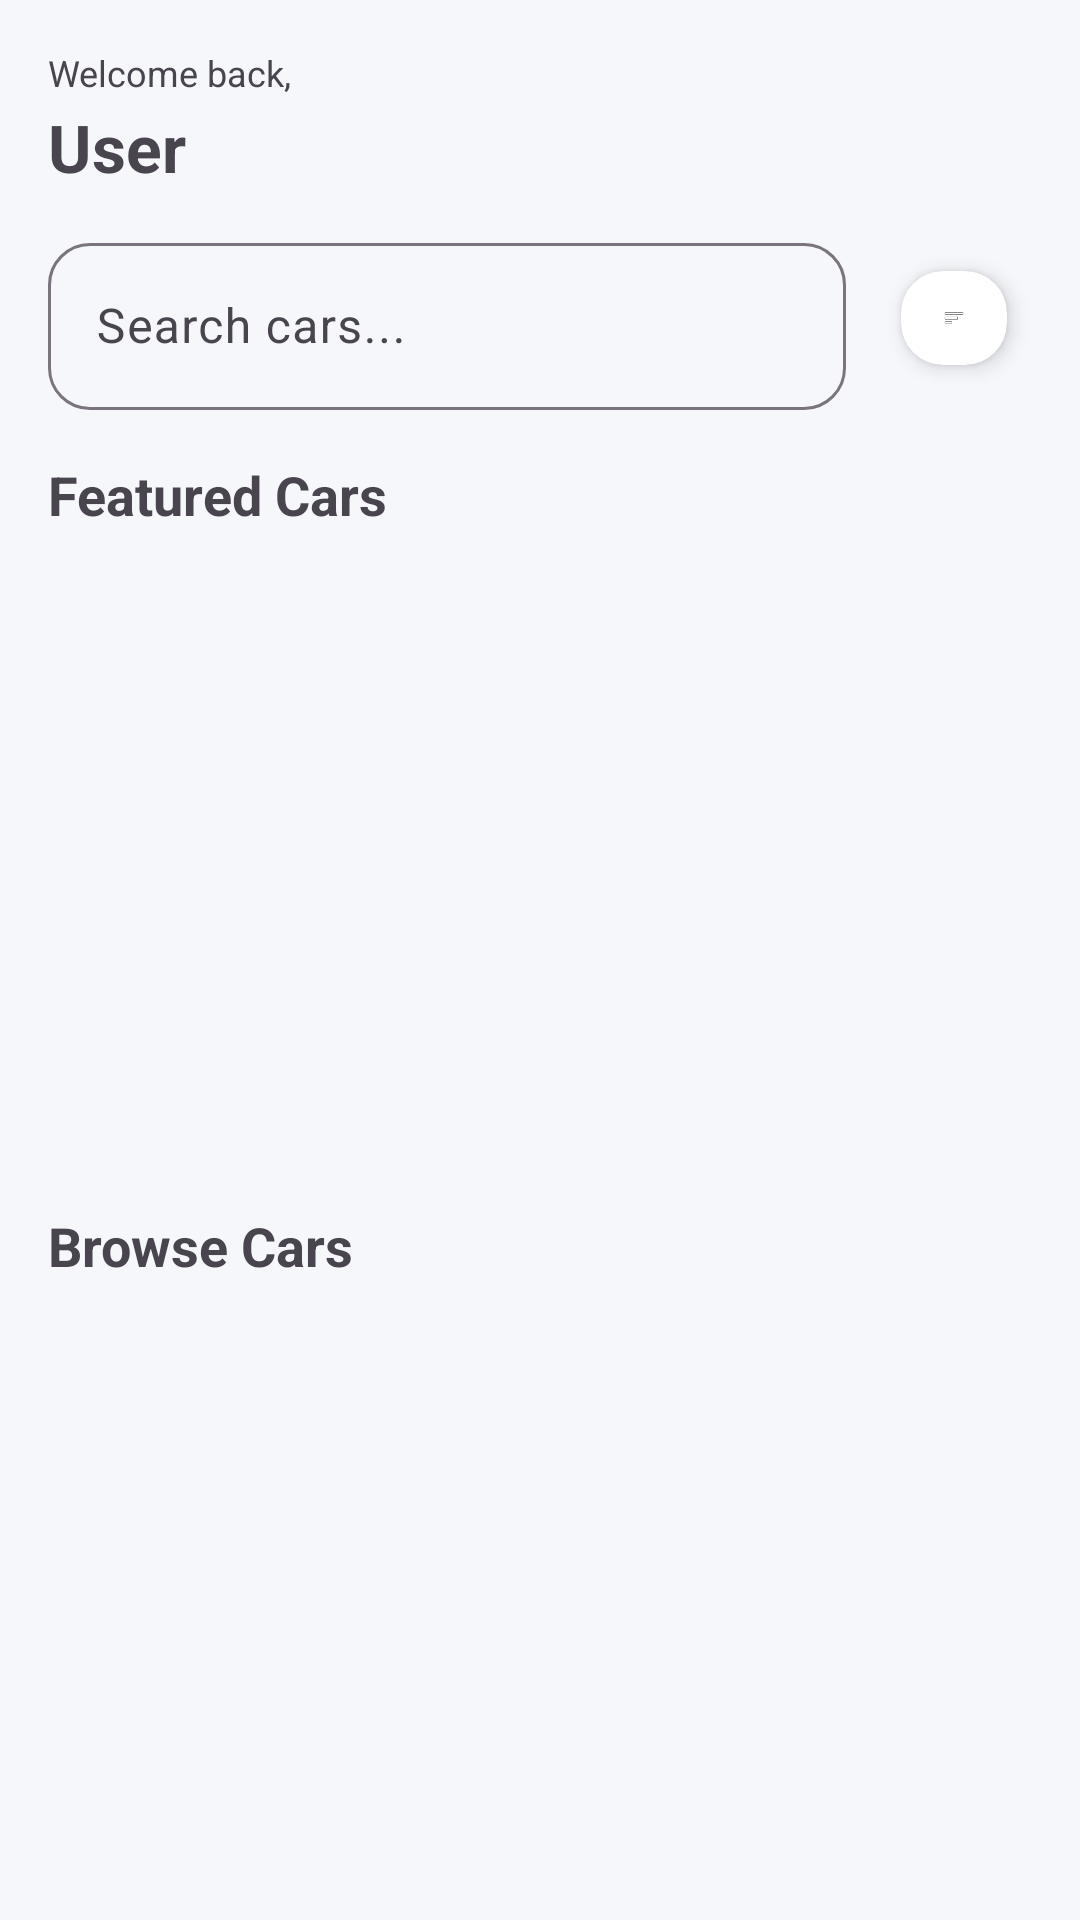

Icons on this 1080×1920 Android screen, each with the point to tap as (x,y):
Filter: (954,318)
